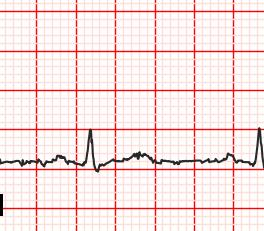Poor R Progression: (77, 126, 99, 168)
